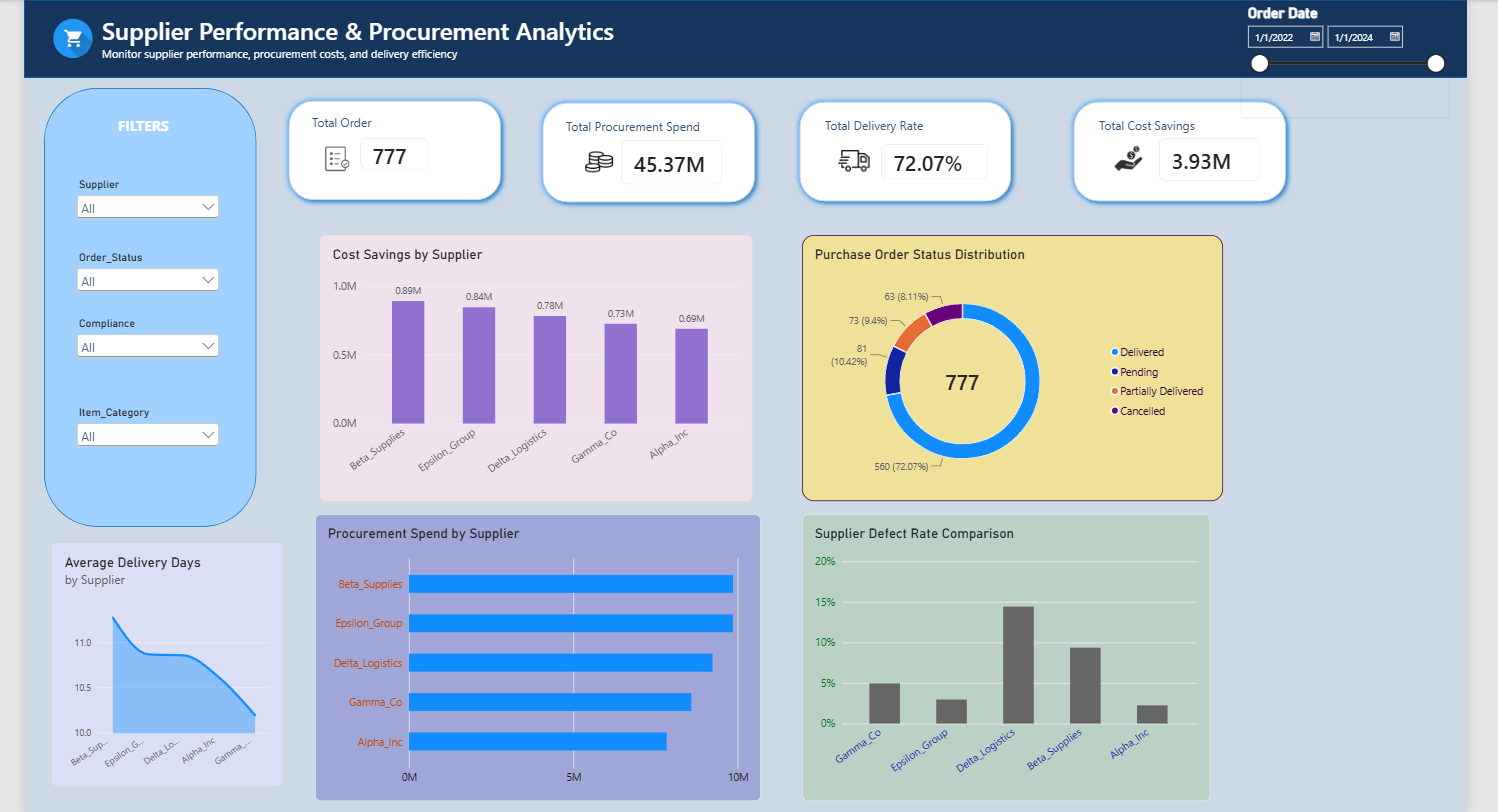

The page's visual inventory and layout, read from the dashboard file:
{"tool":"powerbi","page":{"name":"Page 1","canvas":[1920,1080],"ordinal":0},"visuals":[{"type":"shape","box":[343.2,125,300,150],"z":0,"group":"g3"},{"type":"shape","box":[1022.8,126.4,299,150.3],"z":0,"group":"g5"},{"type":"shape","box":[1387.2,126.4,300,150.3],"z":0,"group":"g1"},{"type":"shape","box":[681,127.7,300,150.3],"z":0,"group":"g6"},{"type":"clusteredBarChart","title":"Procurement Spend by Supplier","fields":{"Category":["Procurement KPI Analysis Dataset.Supplier"],"Y":["Procurement KPI Analysis Dataset.Total Procurement Spend"]},"box":[387,683.6,593.2,381.7],"z":0},{"type":"clusteredColumnChart","title":" Cost Savings by Supplier","fields":{"Category":["Procurement KPI Analysis Dataset.Supplier"],"Y":["Procurement KPI Analysis Dataset.Total Cost Savings"]},"box":[393.7,312.6,574.6,353.8],"z":1000},{"type":"image","box":[394.3,190,46.7,42.3],"z":2000,"group":"g3"},{"type":"image","box":[1444.9,190.3,49.2,39.4],"z":2000,"group":"g1"},{"type":"image","box":[1078.2,193.5,50.6,42.3],"z":2000,"group":"g5"},{"type":"image","box":[743,197,42.6,37.2],"z":2000,"group":"g6"},{"type":"donutChart","title":"Purchase Order Status Distribution","fields":{"Category":["Procurement KPI Analysis Dataset.Order_Status"],"Y":["Procurement KPI Analysis Dataset.Total Orders"]},"box":[1034.8,312.6,560,353.8],"z":2000},{"type":"textbox","box":[382.6,152,202.8,32.1],"z":3000,"group":"g3"},{"type":"textbox","box":[1065.5,155.6,219.9,32.1],"z":3000,"group":"g5"},{"type":"textbox","box":[1430.1,155.6,220.6,32.1],"z":3000,"group":"g1"},{"type":"textbox","box":[720.4,156.9,202.8,32.1],"z":3000,"group":"g6"},{"type":"clusteredColumnChart","title":"Supplier Defect Rate Comparison","fields":{"Category":["Procurement KPI Analysis Dataset.Supplier"],"Y":["Procurement KPI Analysis Dataset.Defect Rate"]},"box":[1034.8,683.6,542.7,381.7],"z":3000},{"type":"areaChart","fields":{"Category":["Procurement KPI Analysis Dataset.Supplier"],"Y":["Procurement KPI Analysis Dataset.Average Delivery Days"]},"box":[37.2,722.2,305.9,323.2],"z":4000},{"type":"shape","box":[0,0,1920.6,103.7],"z":5000},{"type":"textbox","box":[103.7,18.6,715.6,51.9],"z":6000},{"type":"textbox","box":[103.7,61.2,566.1,36.5],"z":7000},{"type":"group","id":"g1","title":"Group 1","box":[1387.2,126.4,300.6,150.3],"z":8000},{"type":"group","id":"g2","title":"Group 2","box":[1022.8,126.4,299.3,150.3],"z":9000},{"type":"group","id":"g3","title":"Group 2","box":[343.2,125,300.6,150.3],"z":10000},{"type":"group","id":"g4","title":"Group 2","box":[681,127.7,299.3,150.3],"z":11000},{"type":"image","box":[26.6,22.6,77.1,57.2],"z":12000},{"type":"shape","box":[26.2,117.5,282.5,583.8],"z":13000},{"type":"slicer","fields":{"Values":["Procurement KPI Analysis Dataset.Item_Category"]},"box":[65,540,198.8,53.8],"z":14000},{"type":"slicer","fields":{"Values":["Procurement KPI Analysis Dataset.Order_Status"]},"box":[65,333.8,198.8,67.5],"z":15000},{"type":"group","id":"g5","title":"Group 4","box":[1022.8,126.4,299.3,150.3],"z":15001,"group":"g2"},{"type":"group","id":"g6","title":"Group 3","box":[681,127.7,300,150.3],"z":15003,"group":"g4"},{"type":"slicer","fields":{"Values":["Procurement KPI Analysis Dataset.Compliance"]},"box":[65,421.2,198.8,112.5],"z":16000},{"type":"slicer","fields":{"Values":["Procurement KPI Analysis Dataset.Supplier"]},"box":[65,236.2,198.8,76.2],"z":17000},{"type":"textbox","box":[125,153.8,143.6,77.1],"z":18000},{"type":"cardVisual","fields":{"Data":["Procurement KPI Analysis Dataset.Delivery Rate"]},"box":[1139.6,192,142.8,47.9],"z":18003,"group":"g2"},{"type":"cardVisual","fields":{"Data":["Procurement KPI Analysis Dataset.Total Records"]},"box":[446.9,183.5,91.8,42.6],"z":19000},{"type":"cardVisual","fields":{"Data":["Procurement KPI Analysis Dataset.Total Procurement Spend"]},"box":[794,186.2,134.3,59.9],"z":20000},{"type":"cardVisual","fields":{"Data":["Procurement KPI Analysis Dataset.Total Cost Savings"]},"box":[1509.6,183.5,135.7,57.2],"z":21000},{"type":"slicer","fields":{"Values":["Procurement KPI Analysis Dataset.Order_Date"]},"box":[1619.4,5.9,274,150],"z":21001}]}

Visuals, with their boxes on the page's 1920x1080 design canvas (x1, y1, x2, y2). These are canvas units, not pixel positions in the 1498x812 screenshot, which may show the page scaled, cropped or inside an application window:
shape: left=343, top=125, right=643, bottom=275
shape: left=1023, top=126, right=1322, bottom=277
shape: left=1387, top=126, right=1687, bottom=277
shape: left=681, top=128, right=981, bottom=278
"Procurement Spend by Supplier" clusteredBarChart: left=387, top=684, right=980, bottom=1065
" Cost Savings by Supplier" clusteredColumnChart: left=394, top=313, right=968, bottom=666
image: left=394, top=190, right=441, bottom=232
image: left=1445, top=190, right=1494, bottom=230
image: left=1078, top=194, right=1129, bottom=236
image: left=743, top=197, right=786, bottom=234
"Purchase Order Status Distribution" donutChart: left=1035, top=313, right=1595, bottom=666
textbox: left=383, top=152, right=585, bottom=184
textbox: left=1066, top=156, right=1285, bottom=188
textbox: left=1430, top=156, right=1651, bottom=188
textbox: left=720, top=157, right=923, bottom=189
"Supplier Defect Rate Comparison" clusteredColumnChart: left=1035, top=684, right=1578, bottom=1065
areaChart - Procurement KPI Analysis Dataset.Supplier x Procurement KPI Analysis Dataset.Average Delivery Days: left=37, top=722, right=343, bottom=1045
shape: left=0, top=0, right=1921, bottom=104
textbox: left=104, top=19, right=819, bottom=70
textbox: left=104, top=61, right=670, bottom=98
"Group 1" group: left=1387, top=126, right=1688, bottom=277
"Group 2" group: left=1023, top=126, right=1322, bottom=277
"Group 2" group: left=343, top=125, right=644, bottom=275
"Group 2" group: left=681, top=128, right=980, bottom=278
image: left=27, top=23, right=104, bottom=80
shape: left=26, top=118, right=309, bottom=701
slicer - Procurement KPI Analysis Dataset.Item_Category: left=65, top=540, right=264, bottom=594
slicer - Procurement KPI Analysis Dataset.Order_Status: left=65, top=334, right=264, bottom=401
"Group 4" group: left=1023, top=126, right=1322, bottom=277
"Group 3" group: left=681, top=128, right=981, bottom=278
slicer - Procurement KPI Analysis Dataset.Compliance: left=65, top=421, right=264, bottom=534
slicer - Procurement KPI Analysis Dataset.Supplier: left=65, top=236, right=264, bottom=312
textbox: left=125, top=154, right=269, bottom=231
cardVisual - Procurement KPI Analysis Dataset.Delivery Rate: left=1140, top=192, right=1282, bottom=240
cardVisual - Procurement KPI Analysis Dataset.Total Records: left=447, top=184, right=539, bottom=226
cardVisual - Procurement KPI Analysis Dataset.Total Procurement Spend: left=794, top=186, right=928, bottom=246
cardVisual - Procurement KPI Analysis Dataset.Total Cost Savings: left=1510, top=184, right=1645, bottom=241
slicer - Procurement KPI Analysis Dataset.Order_Date: left=1619, top=6, right=1893, bottom=156
